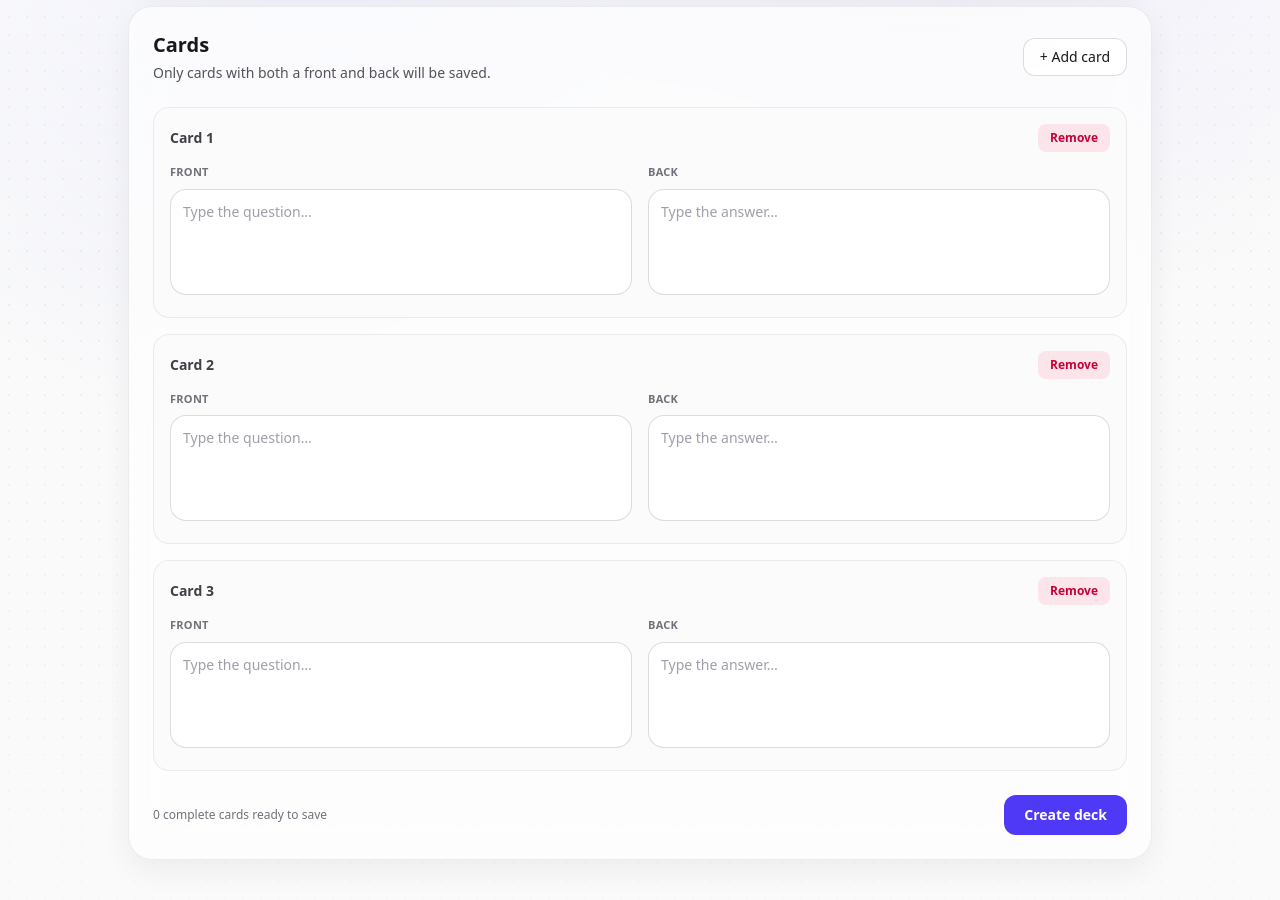
Test case: NewDeckPage › shows validation error when submitting with no complete cards
The image size is (1280, 900).
(page scrolled)
Click the button "Create deck". click: [1066, 814]
box: top-left (1004, 794), bottom-right (1127, 834)
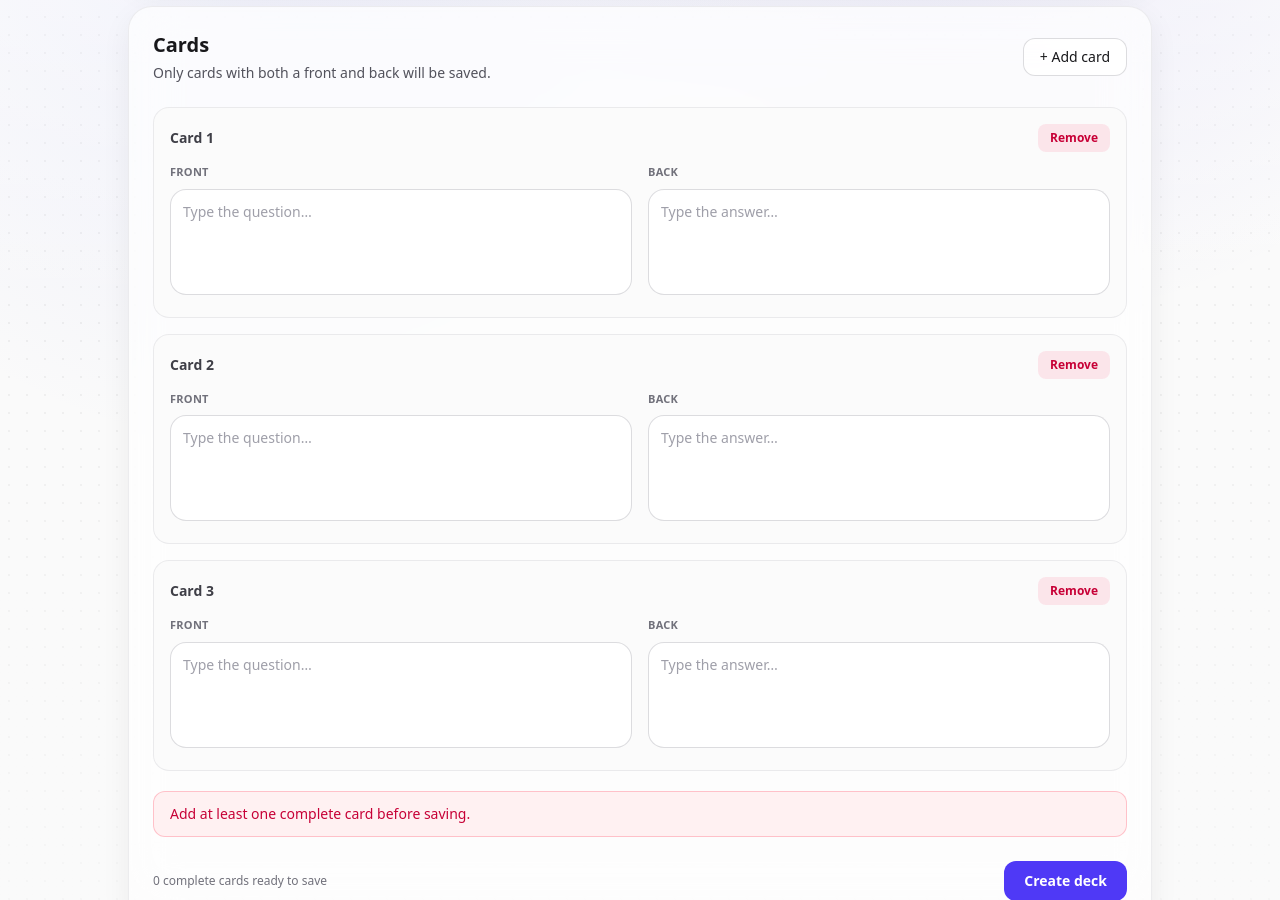
Expected: the text "Add at least one complete card before saving." is shown, top-left (153, 790), bottom-right (1127, 836)
